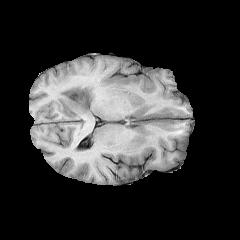glioma: (56, 86, 93, 120)
